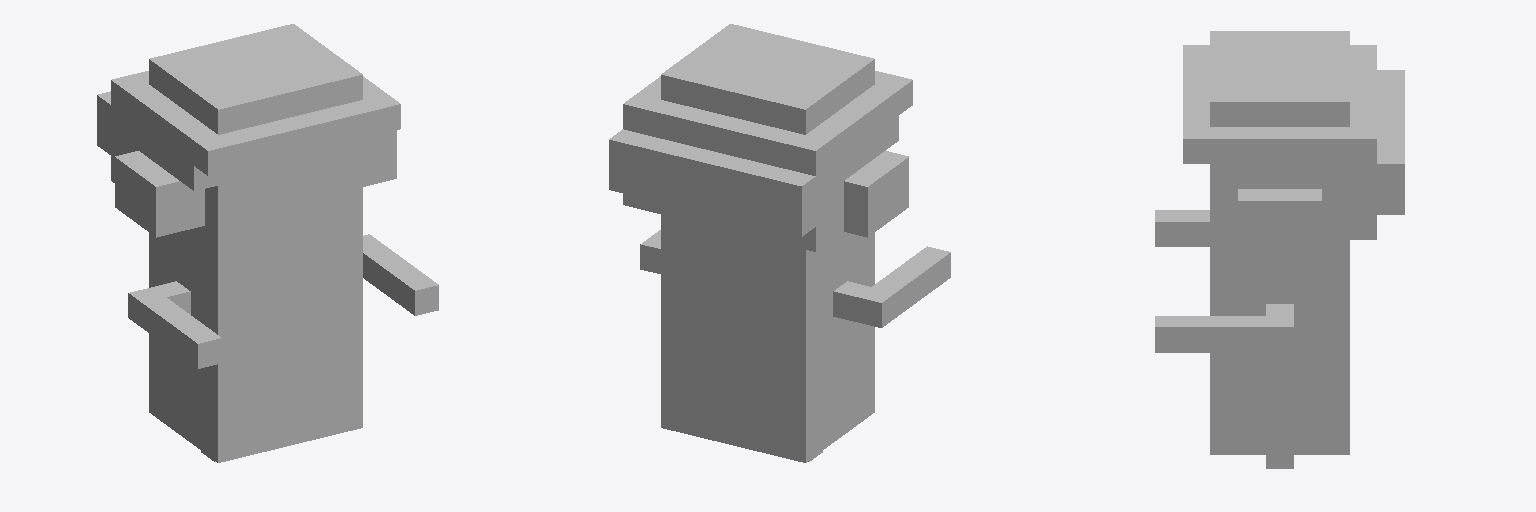
File: swat-os(1).obj
3 renders of one model, left to right at view 1: azimuth 30°, elevation 25°; view 2: azimuth 150°, elevation 25°; view 3: azimuth 270°, elevation 25°, orthographic.
Bounding box in the file's own units: 10 × 15 × 9.